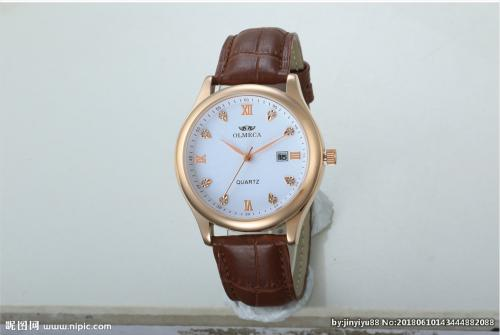watch: (172, 26, 341, 316)
